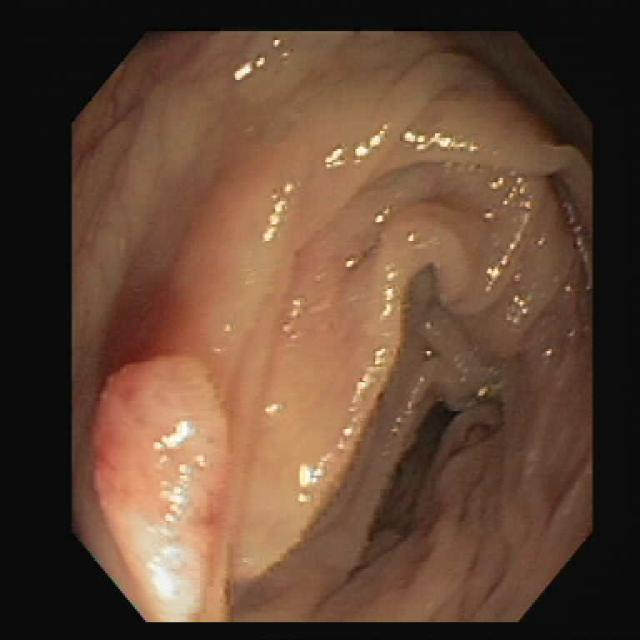tumor: (93, 351, 227, 620)
